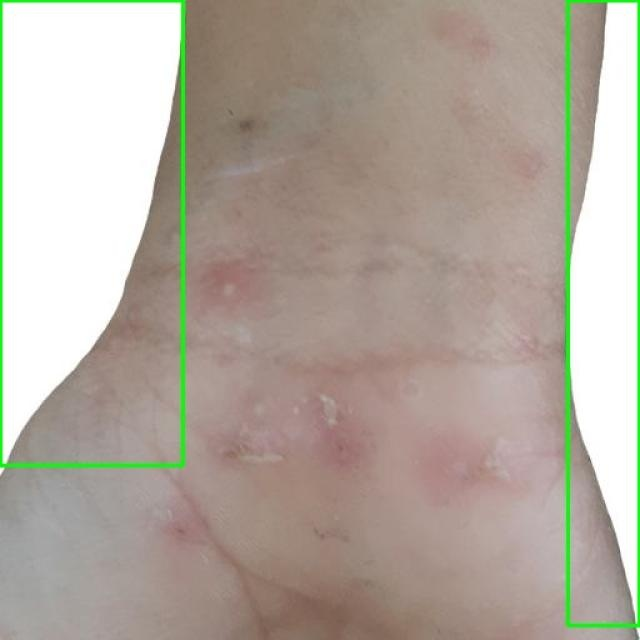Scabies: (0, 0, 182, 465), (568, 0, 639, 625)
